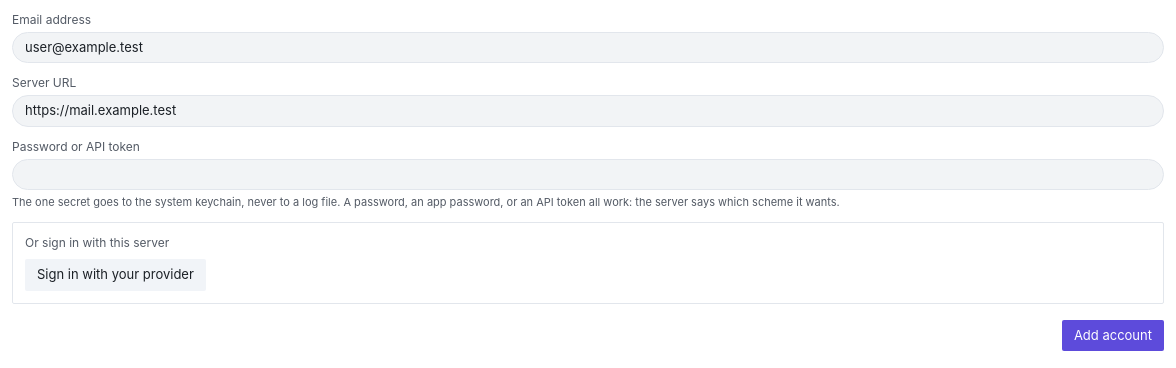
Scenario: a begun jmap sign-in › begins with the address and the server url and shows the browser-open state
Click the button "Sign in with your provider" at (115, 275), box [25, 260, 206, 291]
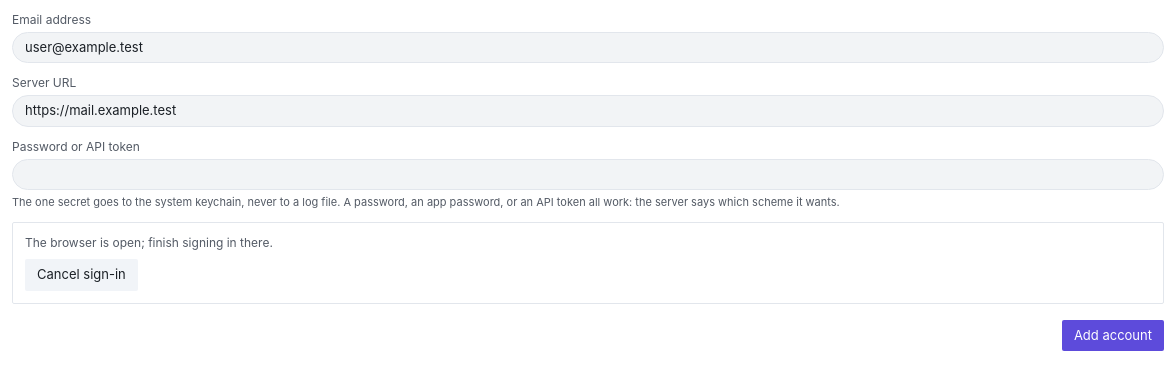
Expected: the message shows "browser is open", [25, 236, 273, 250]
Expected: the button "Cancel sign-in" is shown, [25, 260, 138, 291]
